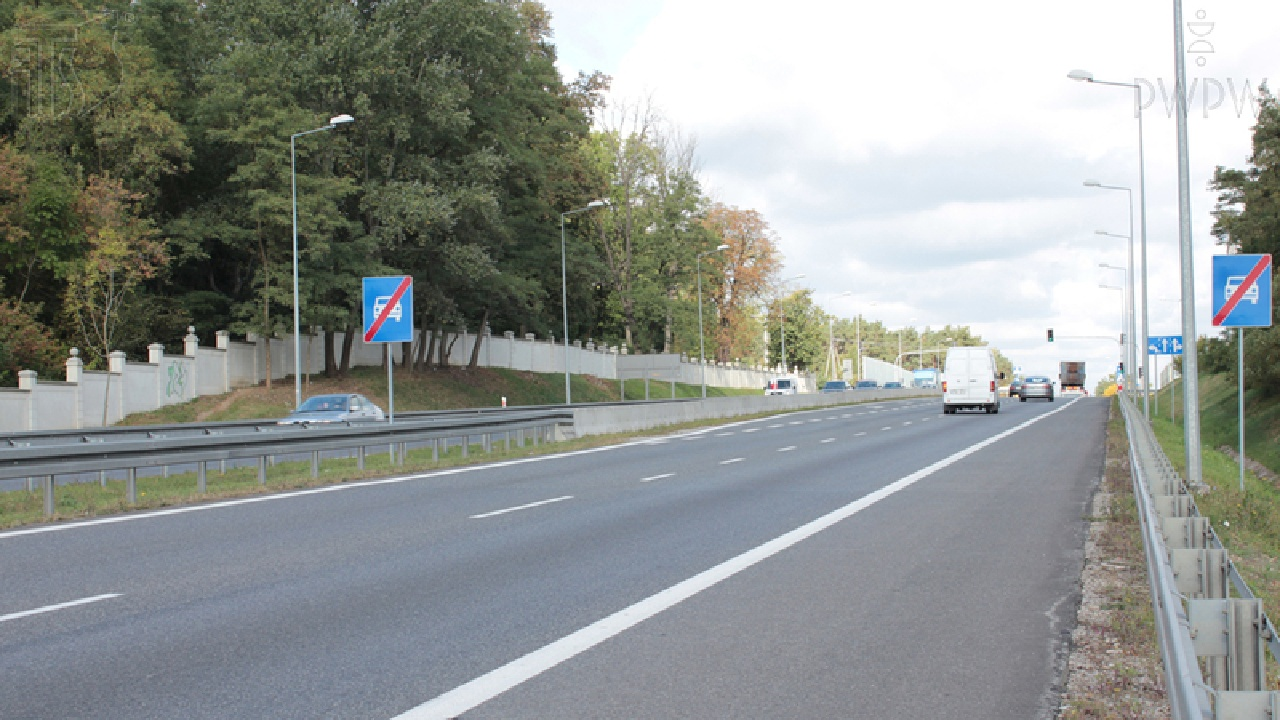D8: (1213, 254, 1274, 329), (362, 275, 414, 342)
